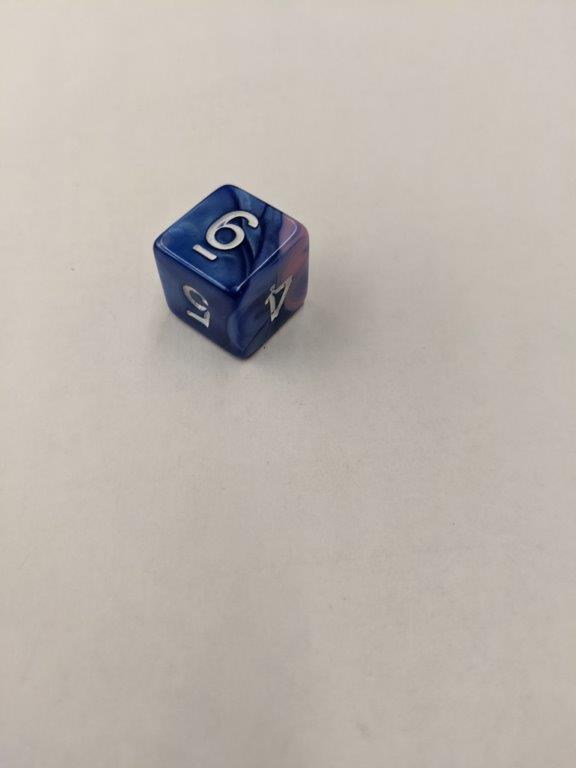d6-6: (154, 181, 310, 357)
